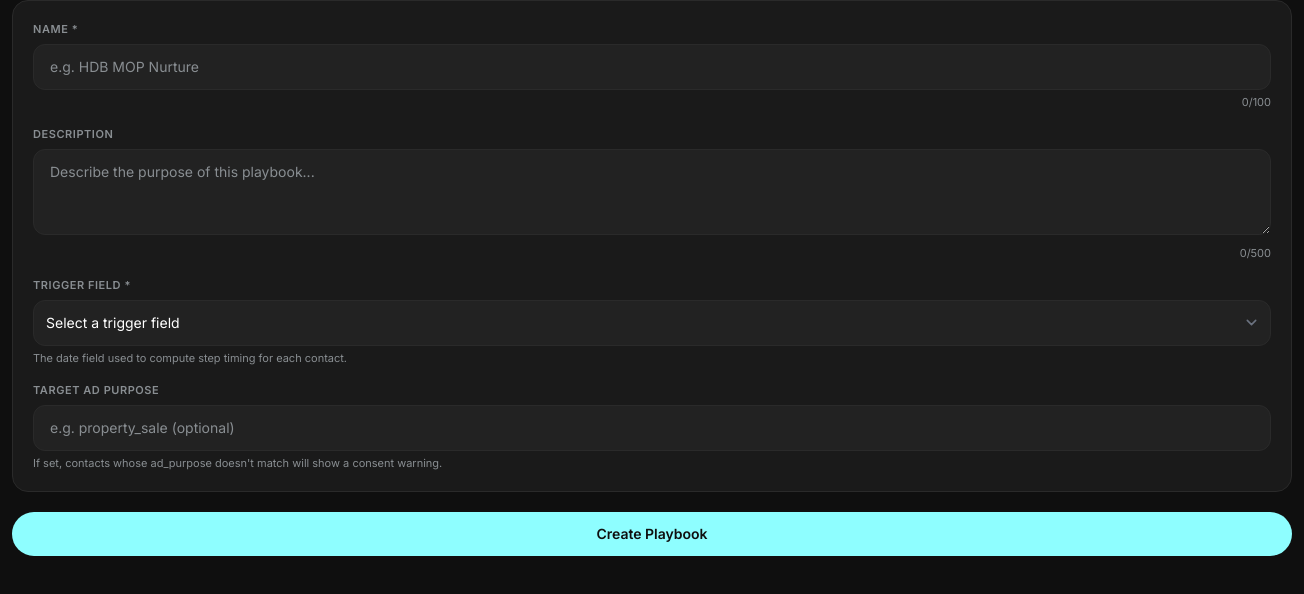
Test: PlaybookForm › shows validation errors when submitting empty required fields
This screenshot has width=1304, height=594.
What coordinates should you click on to do the following:
click the button "Create Playbook"
I would click on:
 (652, 534)
Its box is [12, 512, 1292, 556].
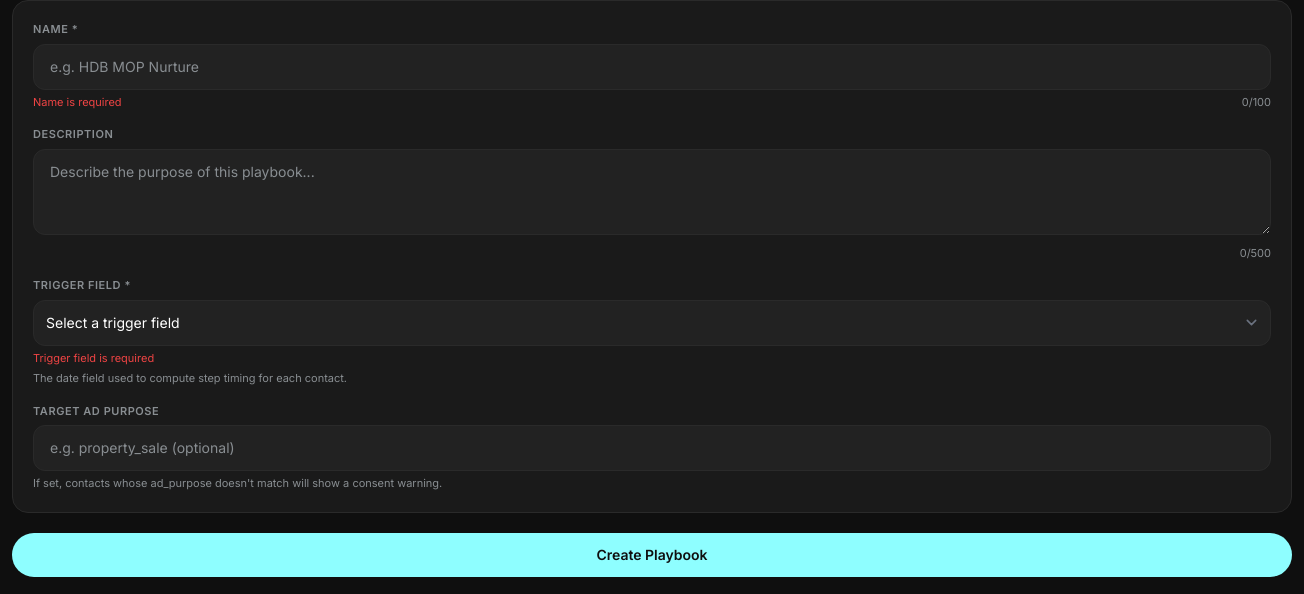
Expected: the text "Name is required" is shown, [33, 94, 122, 110]
Expected: the text "Trigger field is required" is shown, [33, 350, 154, 364]
